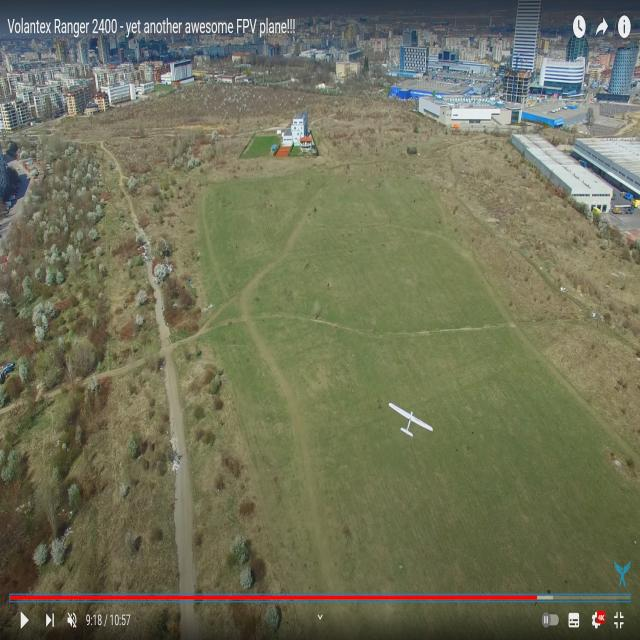iha: (390, 400, 435, 446)
